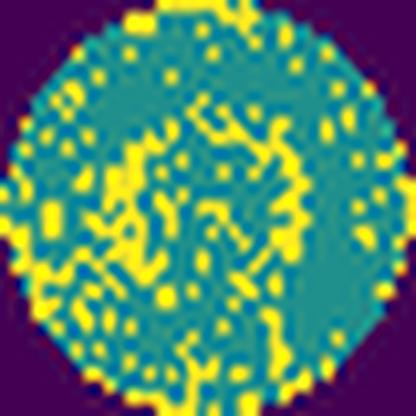Donut: (81, 88, 316, 317)
